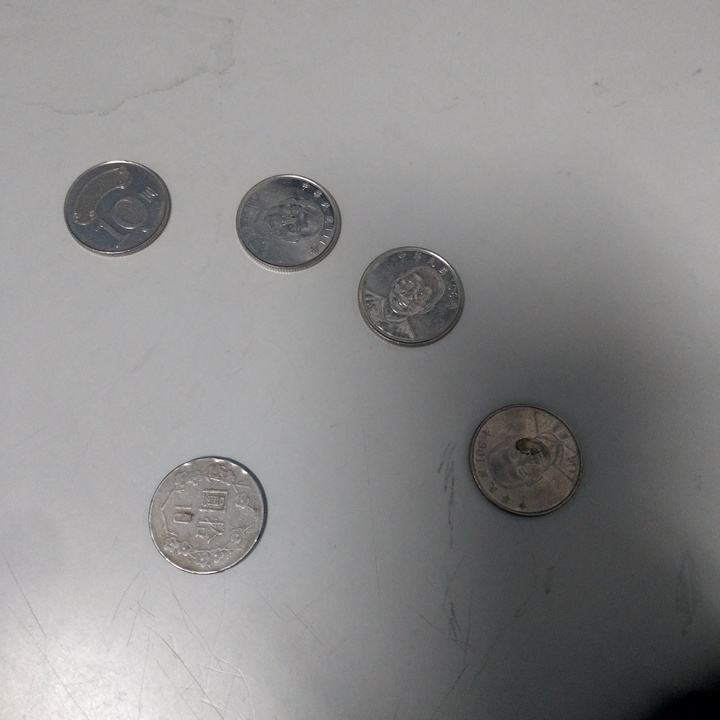10 dollar: (147, 453, 272, 575), (467, 406, 584, 517), (358, 247, 466, 350), (232, 174, 343, 274), (63, 159, 173, 259)
